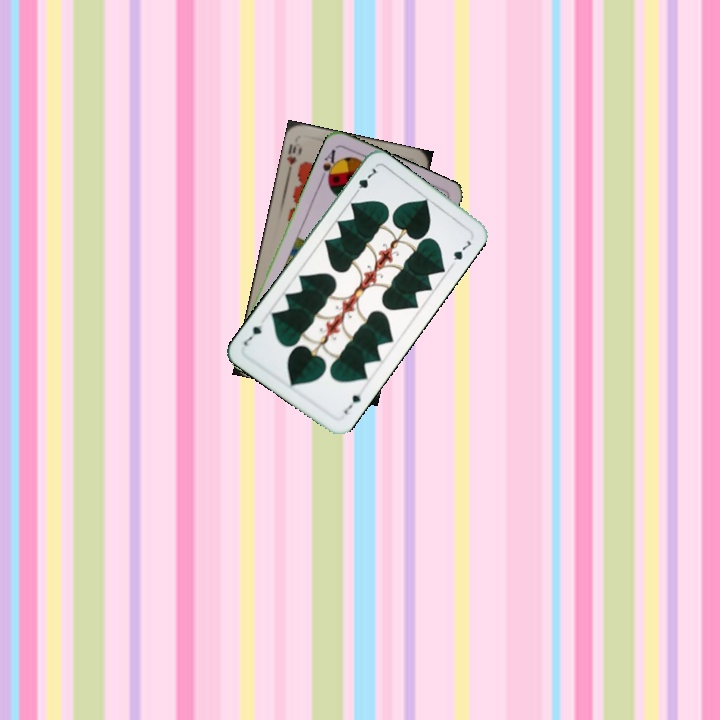G7: (350, 163, 381, 198), (340, 387, 366, 417)
H10: (283, 139, 305, 177)
SA: (317, 145, 341, 185)
